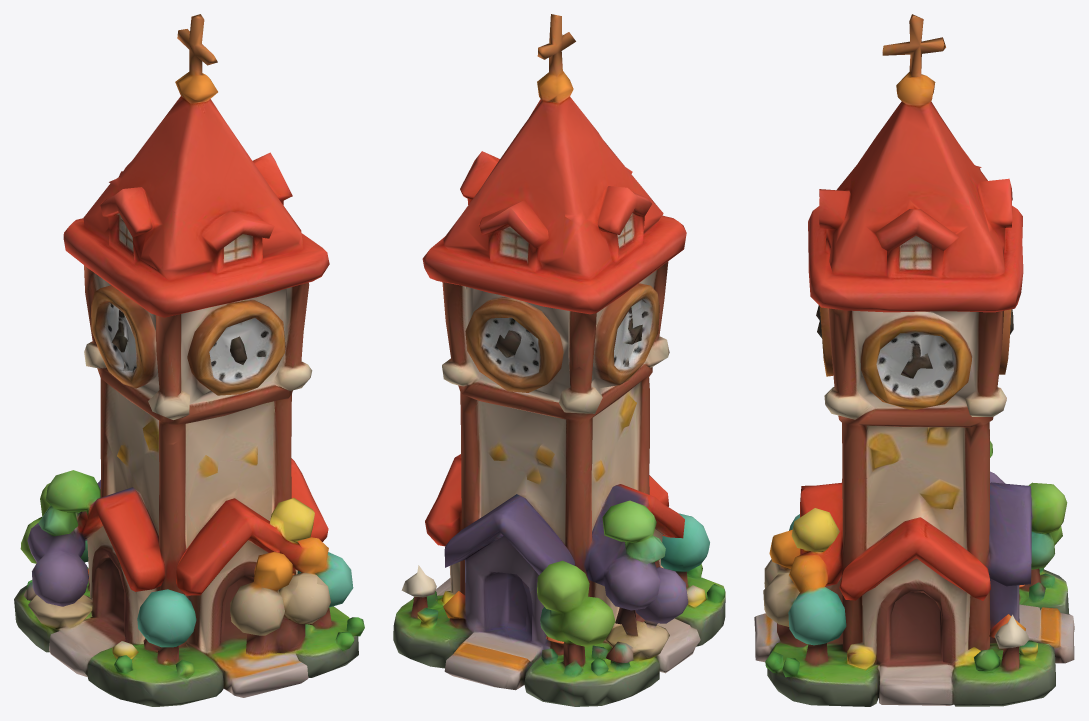
The model's file is clocktower.glb.
3 views of the same model, side by side, from view 1: azimuth 30°, elevation 25°; view 2: azimuth 150°, elevation 25°; view 3: azimuth 270°, elevation 25° (orthographic). The views are drawn at different scales.
Parts seen in each view (by area): view 1: tripo_node_0075e277-ab45-4d4f-96d9-49f706a32ec3; view 2: tripo_node_0075e277-ab45-4d4f-96d9-49f706a32ec3; view 3: tripo_node_0075e277-ab45-4d4f-96d9-49f706a32ec3.
Boxes of the visible parts, left/top/right/bottom form: tripo_node_0075e277-ab45-4d4f-96d9-49f706a32ec3: left=14, top=14, right=364, bottom=706; tripo_node_0075e277-ab45-4d4f-96d9-49f706a32ec3: left=393, top=14, right=725, bottom=706; tripo_node_0075e277-ab45-4d4f-96d9-49f706a32ec3: left=754, top=14, right=1074, bottom=706.
Bounding box in the file's own units: 0.4412 × 1 × 0.4562.
Materials: 1 (1 with a texture image).
